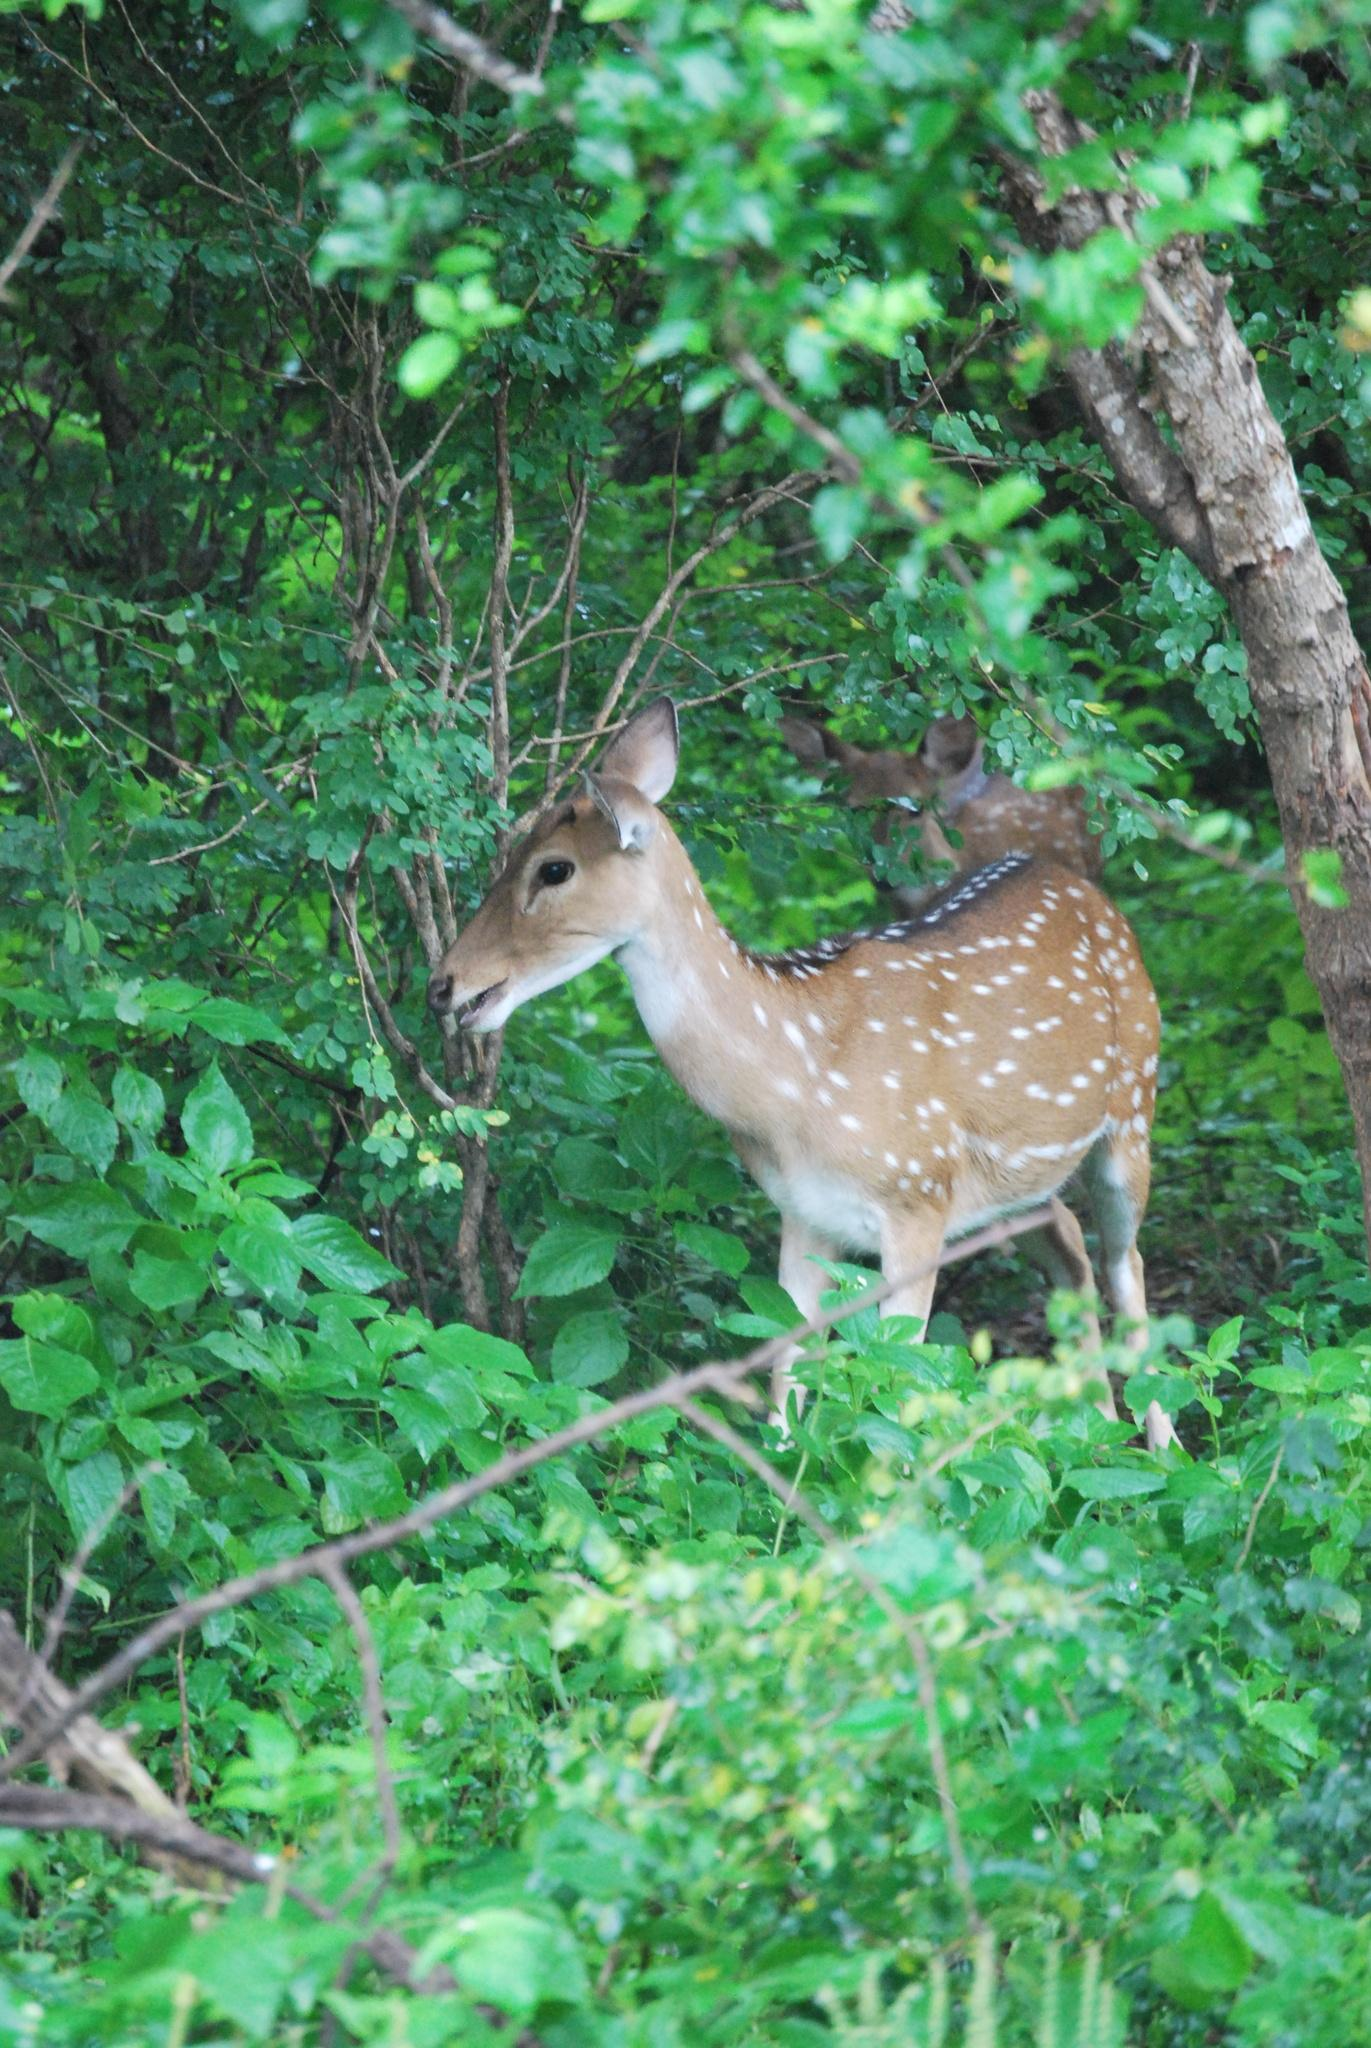Deer: (431, 701, 1158, 1323)
